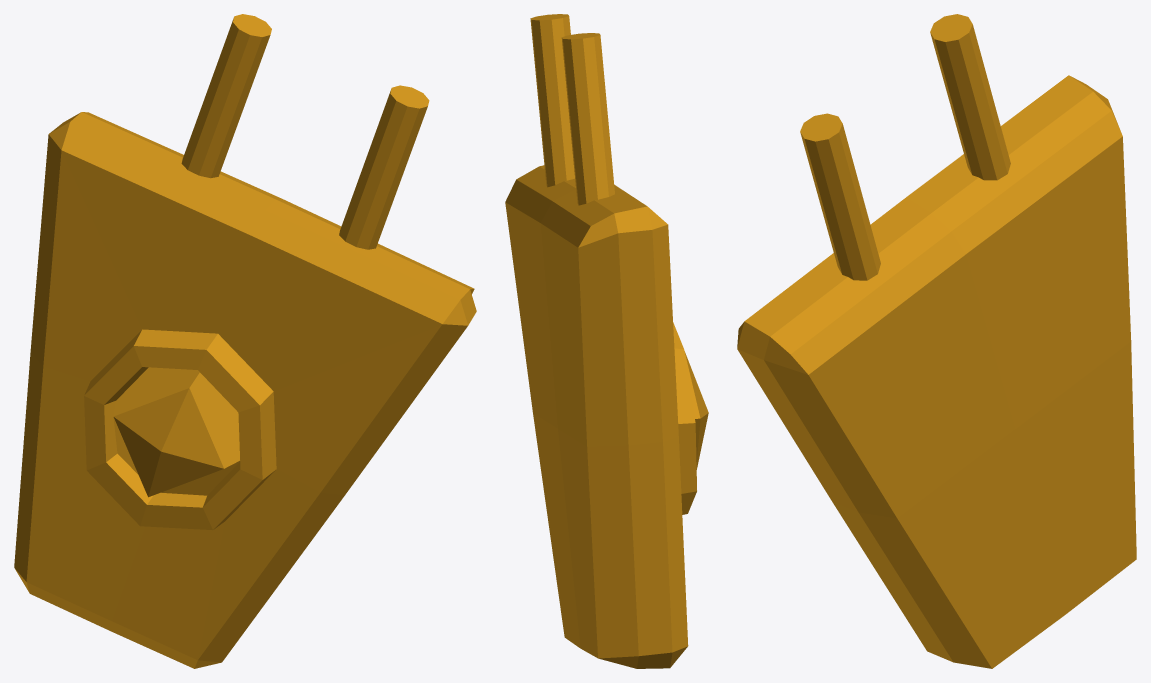
File: Fighter_03_Flap_Yellow.fbx
The picture shows the model from 3 angles, left to right: view 1: azimuth 30°, elevation 25°; view 2: azimuth 150°, elevation 25°; view 3: azimuth 270°, elevation 25°; orthographic projection. The views are drawn at different scales.
Parts seen in each view (by area): view 1: Fighter_03_Flap_Yellow; view 2: Fighter_03_Flap_Yellow; view 3: Fighter_03_Flap_Yellow.
Part boxes in pixels (box(x1,y1,x2,y2)): Fighter_03_Flap_Yellow: box(14, 14, 476, 668); Fighter_03_Flap_Yellow: box(505, 14, 708, 668); Fighter_03_Flap_Yellow: box(737, 14, 1136, 668).
Size of the model in its own units: 55.99 by 107 by 58.57.
1 material, 1 textured.
